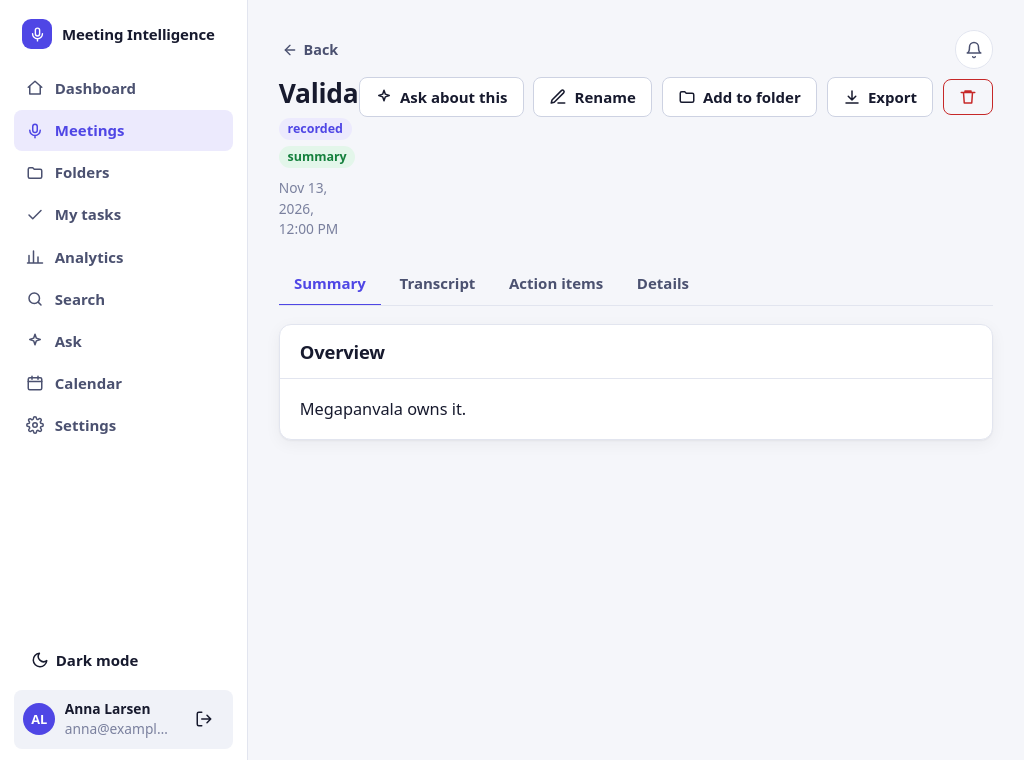
Test case: correcting the transcript › fixes one line, marks it edited, and offers to regenerate the summary
Click the tab "Transcript" at (437, 284), box [384,262,491,306]
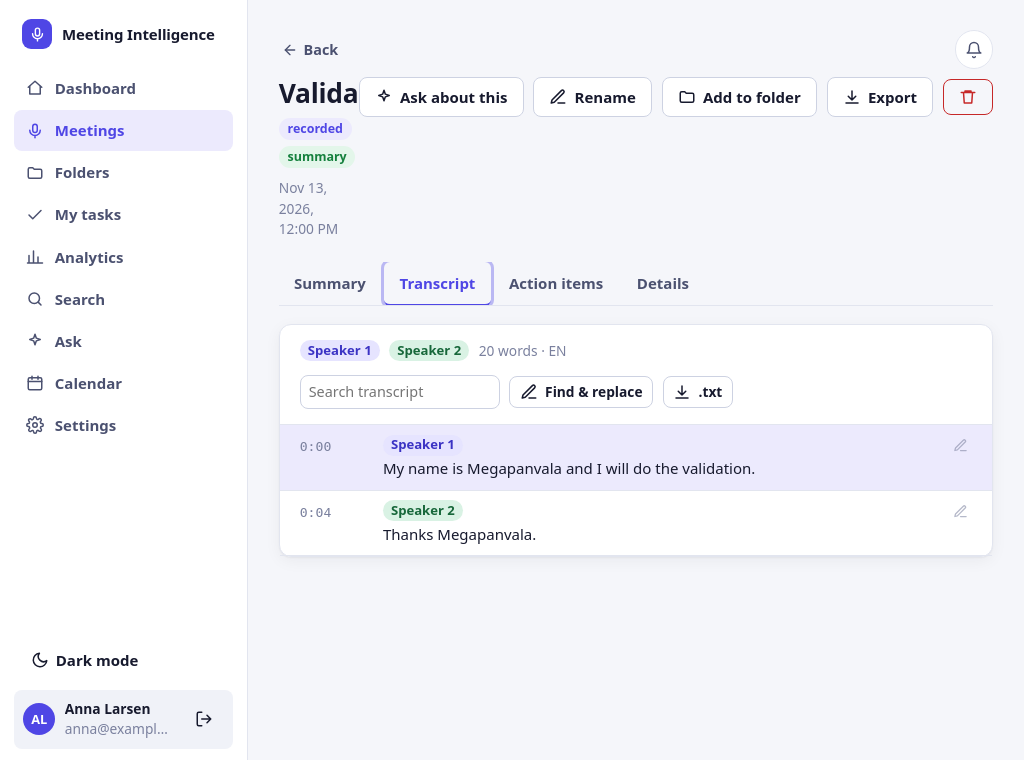
Check: the text "My name is Megapanvala and I will do the validation." is shown, box [383,458,755,478]
Click the button named "Edit 0:00" at (961, 446), box [949,434,972,457]
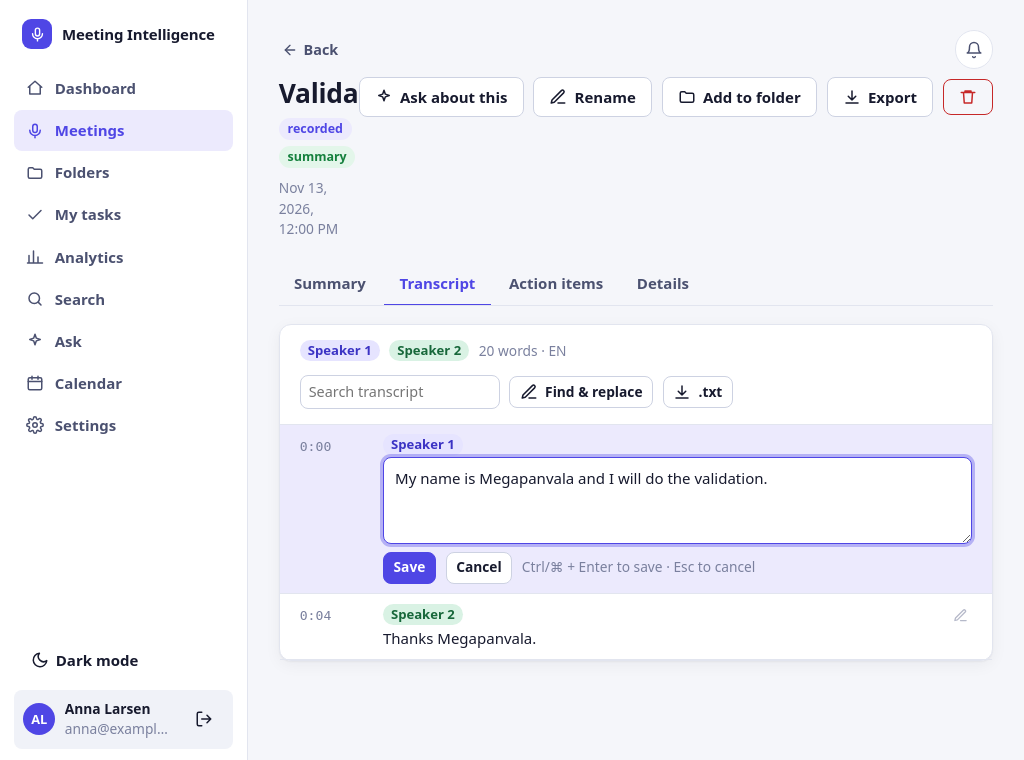
Check: the text box named "Transcript text" holds "My name is Megapanvala and I will do the validation."
Replace the text in the text box named "Transcript text" with "My name is Megha Panwala and I will do the validation." at (678, 501), box [383,457,972,544]
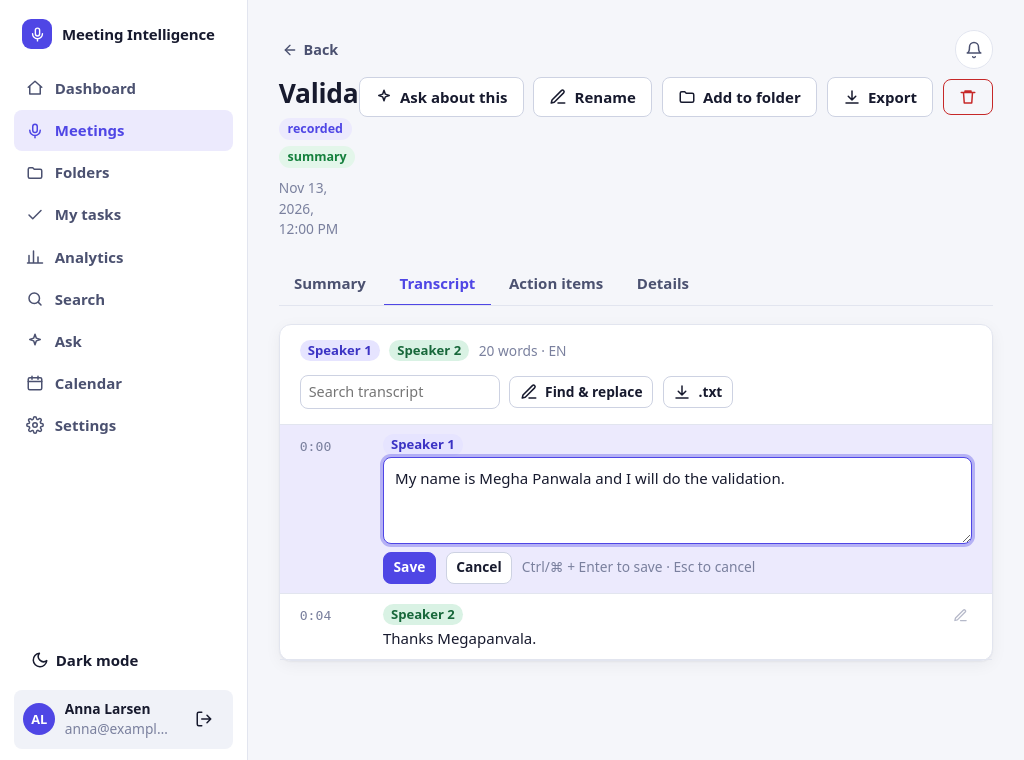
Click the button "Save" at (409, 568), box [383,552,436,584]
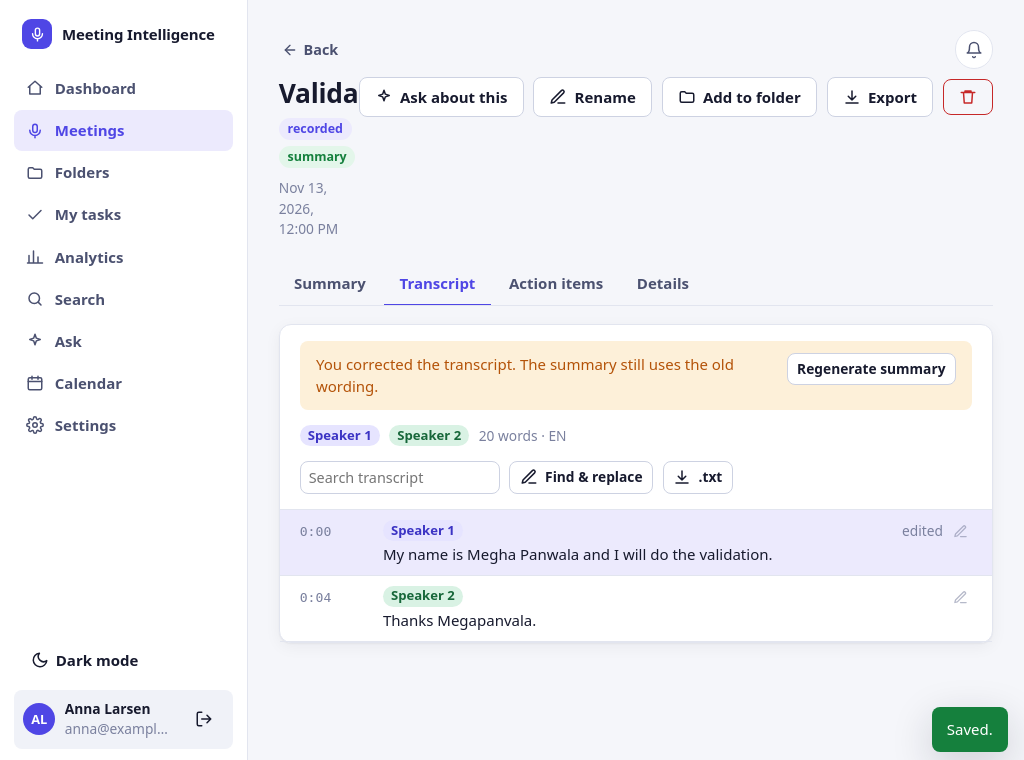
Check: the text "My name is Megha Panwala and I will do the validation." is shown, box [383,544,772,564]
Check: the text "edited" is shown, box [902,521,943,542]
Check: the text "summary still uses the old wording" is shown, box [316,354,734,396]
Click the button "Regenerate summary" at (871, 369), box [786,353,956,385]
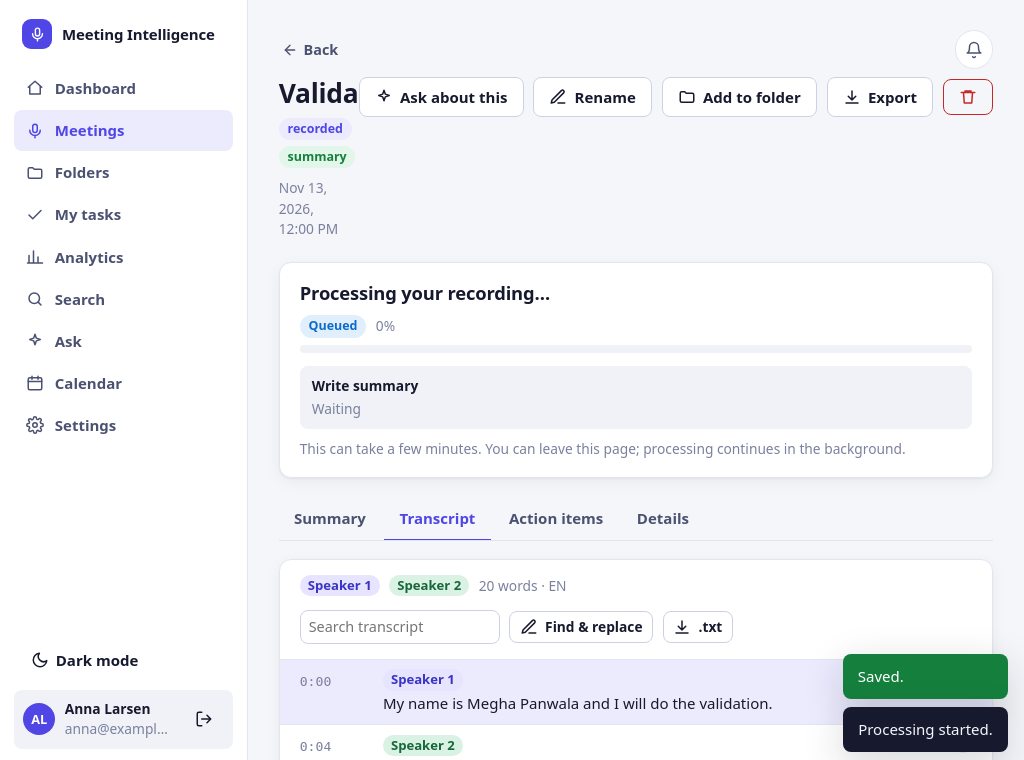
Check: the text "summary still uses the old wording" is gone
